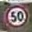limite 50: (4, 3, 29, 29)
